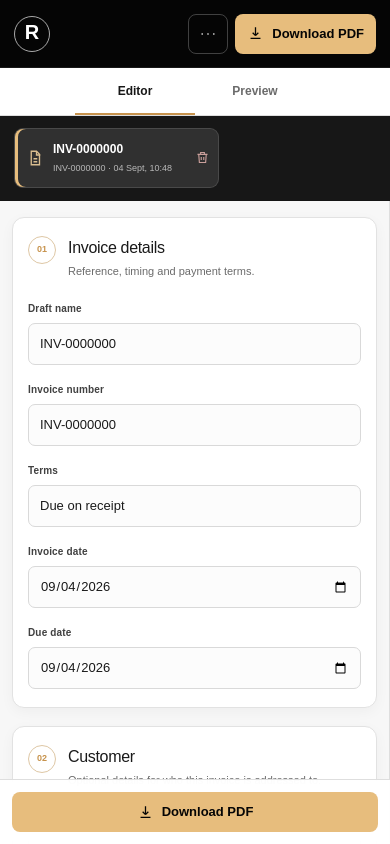
Test: invoice workspace › exposes history, duplicate, and sign out in the mobile actions menu
This screenshot has width=390, height=844.
Expected: the field labelled "Draft name" is shown, [28,323,361,365]
Click the button named "More invoice actions": (208, 34) [188,14,228,54]
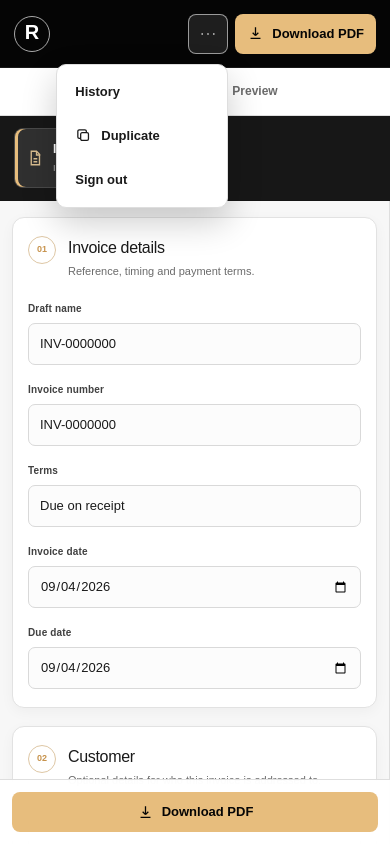
Expected: the button "Sign out" is shown, [63,158,221,200]
Click the button "Duplicate": (142, 136) [63,114,221,156]
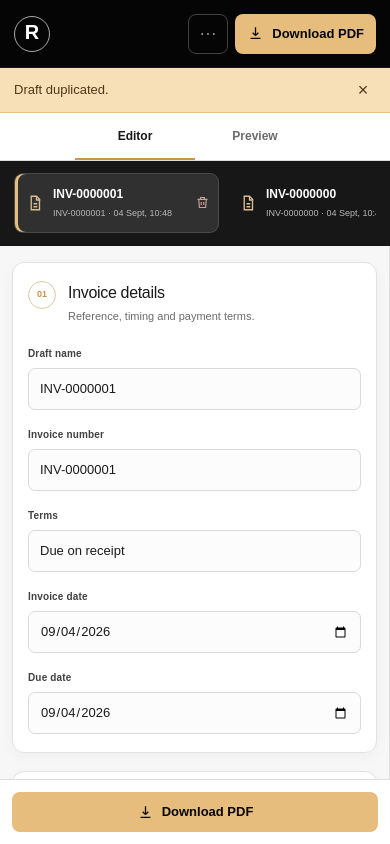
Expected: the text "Draft duplicated." is shown, [14,80,109,100]
Expected: the button named "More invoice actions" is collapsed, [188,14,228,54]
